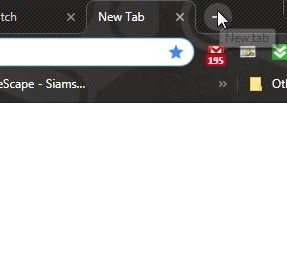cursor: (215, 9, 230, 30)
